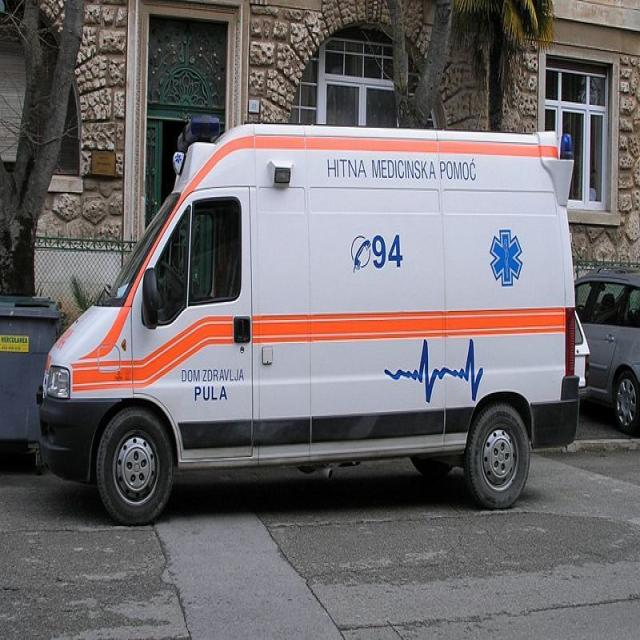emergency-vehicle: (34, 123, 572, 526)
